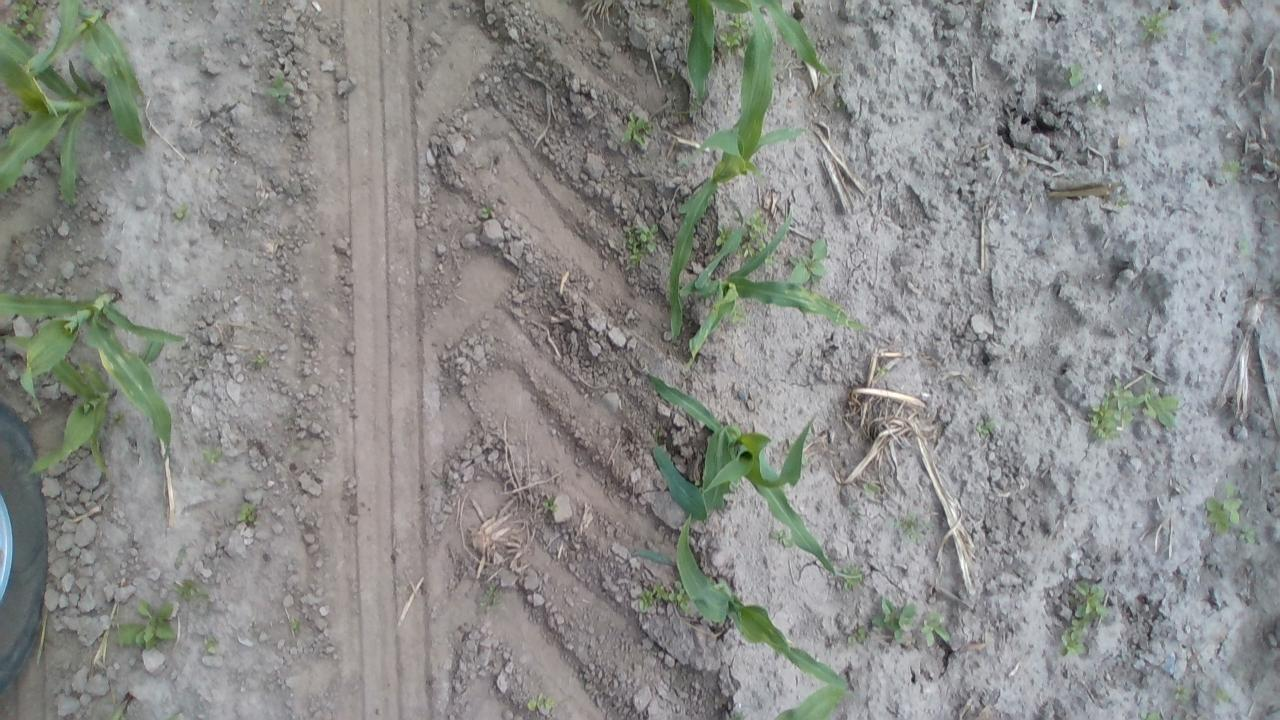Maize: (666, 1, 806, 338), (648, 376, 862, 583), (632, 510, 858, 687), (0, 289, 186, 465), (686, 200, 870, 362), (4, 334, 166, 498), (0, 26, 114, 203), (36, 0, 152, 149), (684, 0, 836, 111), (773, 688, 846, 720), (108, 693, 130, 720), (165, 711, 182, 720)
Weeds: (1090, 380, 1178, 439), (1059, 582, 1107, 656), (115, 596, 175, 652), (784, 235, 826, 284), (872, 596, 916, 642), (1206, 479, 1239, 536), (620, 222, 660, 261), (640, 579, 686, 611), (1138, 12, 1174, 44), (741, 211, 768, 253), (924, 608, 950, 648), (716, 14, 744, 50), (620, 115, 656, 143), (480, 582, 506, 618), (262, 74, 290, 100), (178, 579, 202, 604), (899, 517, 924, 540), (527, 694, 555, 714), (236, 503, 258, 526), (842, 567, 862, 591), (974, 420, 998, 439), (1068, 61, 1087, 85), (845, 626, 867, 646), (770, 528, 790, 548), (1222, 160, 1246, 176), (205, 445, 222, 467), (712, 225, 732, 242), (110, 406, 126, 426), (170, 205, 189, 220), (203, 633, 218, 652), (1174, 684, 1189, 702), (731, 307, 746, 325), (481, 197, 494, 214), (1146, 708, 1162, 720), (541, 502, 558, 512), (1215, 690, 1229, 702), (864, 483, 878, 495), (290, 620, 302, 632), (1206, 33, 1218, 44), (254, 355, 265, 366), (876, 366, 886, 374)
